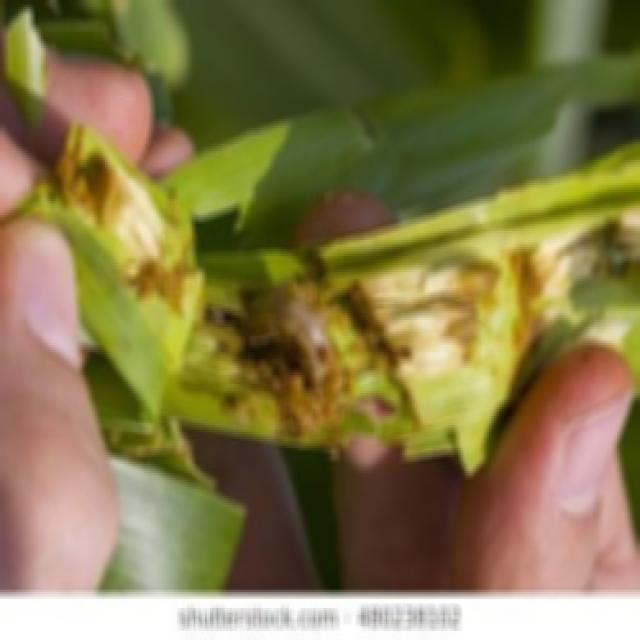army worm: (237, 293, 350, 405)
